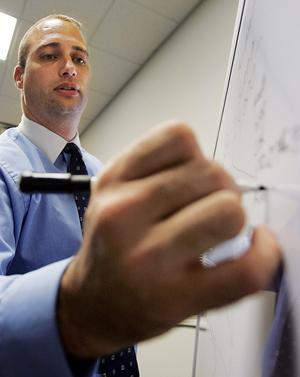person: (2, 14, 283, 375)
